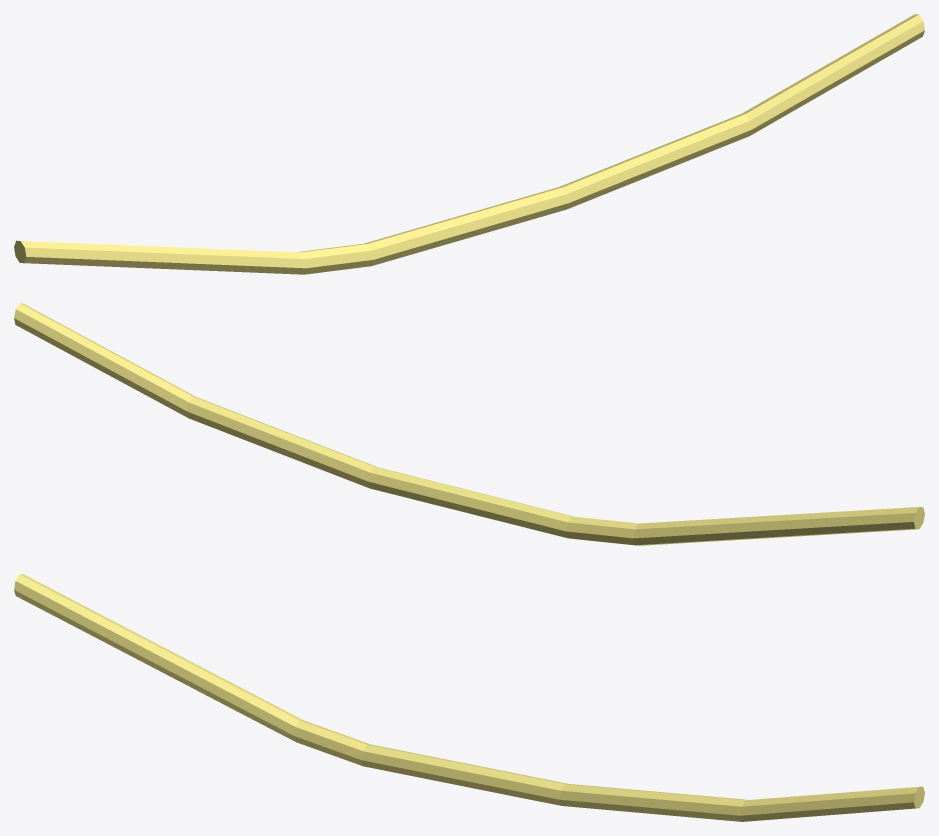
The model's file is Roap.fbx.
3 views of the same model, one above another, from view 1: azimuth 30°, elevation 25°; view 2: azimuth 150°, elevation 25°; view 3: azimuth 330°, elevation 25° (orthographic). The views are drawn at different scales.
Parts seen in each view (by area): view 1: Roap; view 2: Roap; view 3: Roap.
Part boxes in pixels (<box>): Roap: <box>14,14,924,274</box>; Roap: <box>14,303,924,545</box>; Roap: <box>14,574,924,821</box>.
Bounding box in the file's own units: 215 × 25.89 × 9.77.
